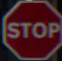Stop: (2, 1, 61, 55)
